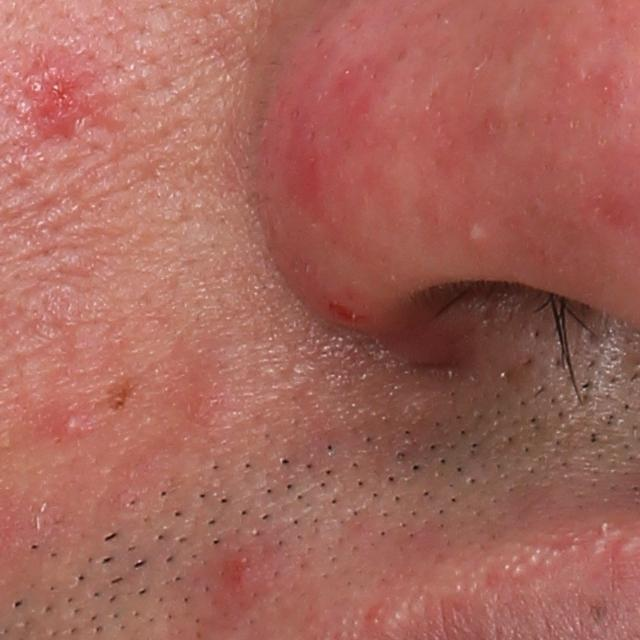papule: (25, 52, 94, 132), (214, 549, 263, 601)
